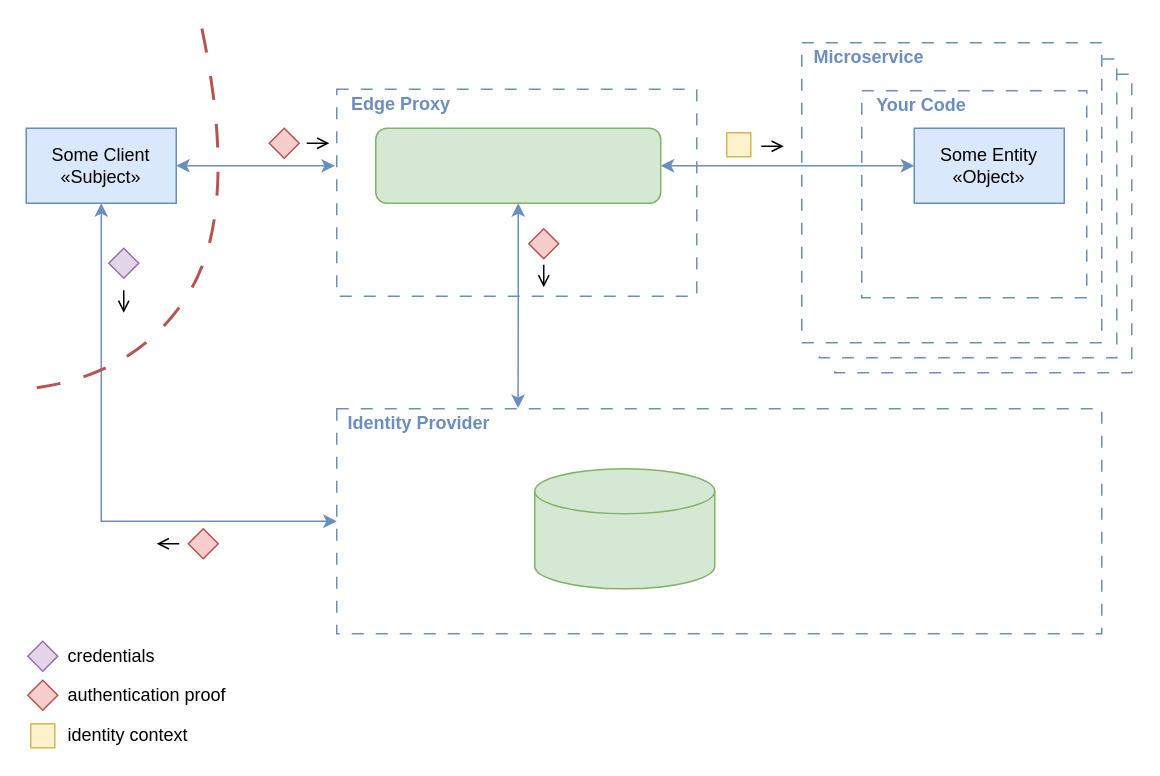
The diagram is 1160 pixels wide and 776 high, and some of its shapes have lost their labels. The shapes that lost their labels are listed below. From the top down, each one's centre as x and y in pixels, then its label:
At [517,165]: "Authentication Mediation".
At [624,528]: "Identity Store".
